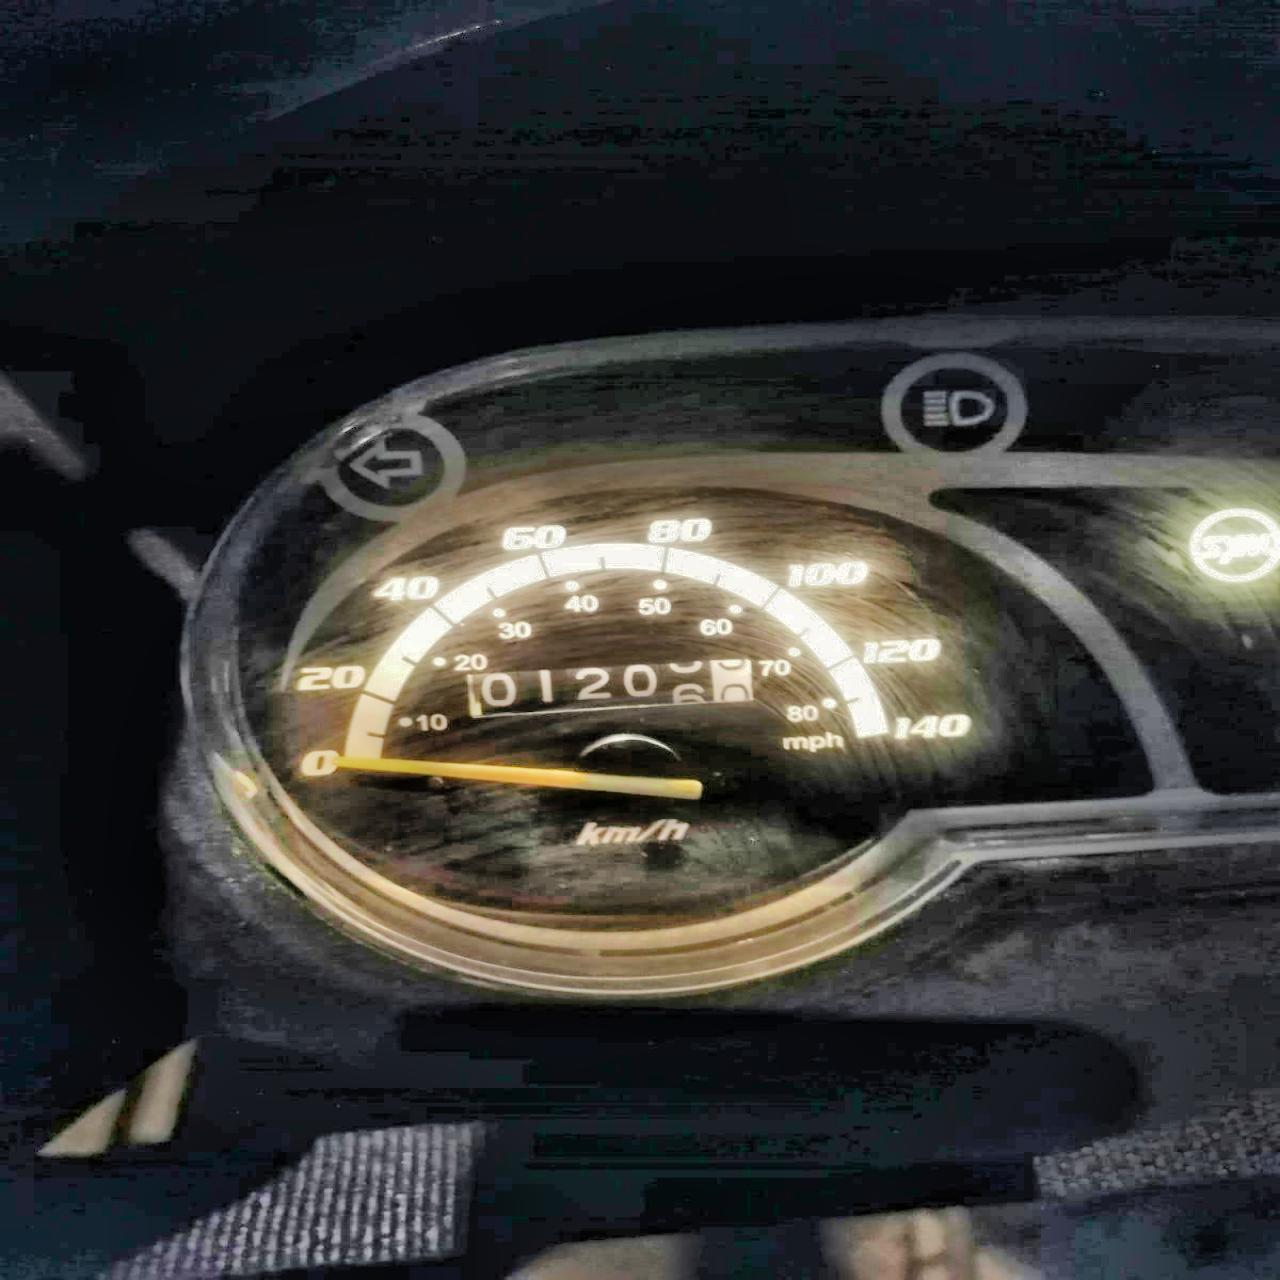0: (479, 672, 523, 709), (619, 662, 659, 700), (719, 678, 753, 709), (468, 651, 489, 669)
1: (532, 662, 556, 708)
2: (571, 665, 613, 701)
6: (669, 681, 709, 709)
odometer: (464, 656, 755, 719)
